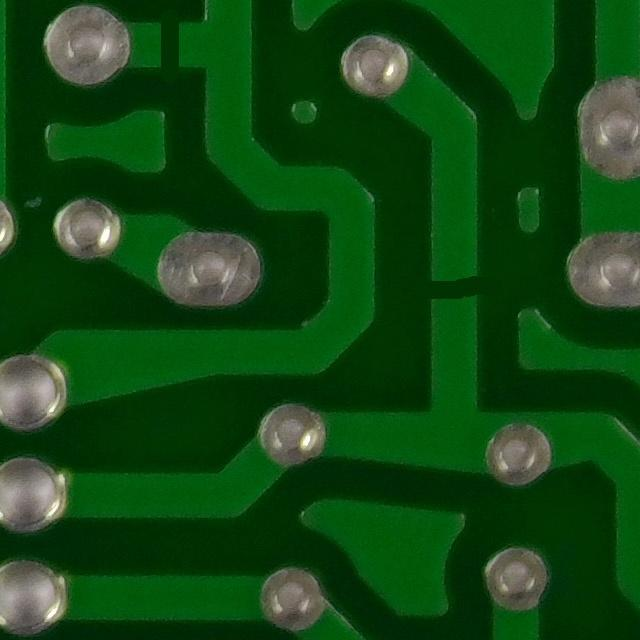open_circuit: (410, 261, 501, 319), (141, 3, 194, 84)
